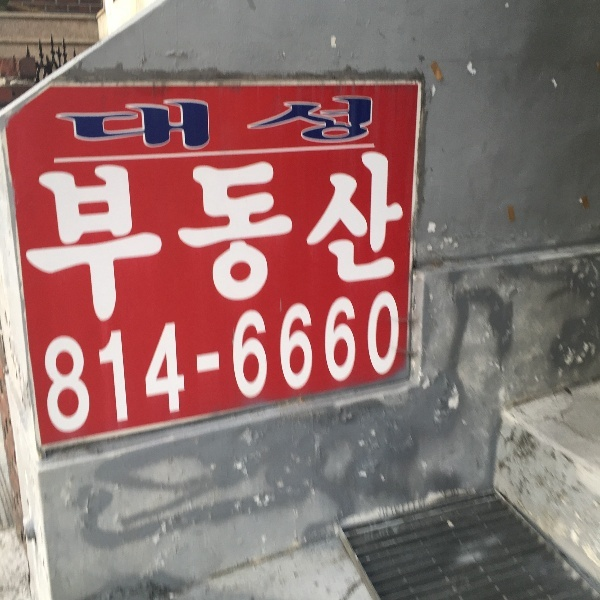text: (17, 148, 32, 334), (33, 148, 48, 334), (49, 148, 64, 334), (65, 148, 80, 334), (81, 148, 96, 334), (97, 148, 112, 334), (113, 148, 128, 334), (129, 148, 144, 334), (145, 148, 160, 334), (161, 148, 176, 334), (177, 148, 192, 334), (193, 148, 208, 334), (209, 148, 224, 334), (225, 148, 240, 334), (241, 148, 256, 334), (257, 148, 272, 334), (273, 148, 288, 334), (289, 148, 304, 334), (305, 148, 320, 334), (321, 148, 336, 334), (337, 148, 352, 334), (353, 148, 368, 334), (369, 148, 384, 334), (385, 148, 400, 334), (49, 286, 64, 441), (65, 286, 80, 441), (81, 286, 96, 441), (97, 286, 112, 441), (113, 286, 128, 441), (129, 286, 144, 441), (145, 286, 160, 441), (161, 286, 176, 441), (177, 286, 192, 441), (193, 286, 208, 441), (209, 286, 224, 441), (225, 286, 240, 441), (241, 286, 256, 441), (257, 286, 272, 441), (273, 286, 288, 441), (289, 286, 304, 441), (305, 286, 320, 441), (321, 286, 336, 441), (337, 286, 352, 441), (353, 286, 368, 441), (369, 286, 384, 441), (385, 286, 400, 441), (37, 286, 48, 441), (65, 92, 80, 150), (81, 92, 96, 150), (97, 92, 112, 150), (113, 92, 128, 150), (129, 92, 144, 150), (145, 92, 160, 150), (161, 92, 176, 150), (177, 92, 192, 150), (193, 92, 208, 150), (209, 92, 224, 150), (225, 92, 240, 150), (241, 92, 256, 150), (257, 92, 272, 150), (273, 92, 288, 150), (289, 92, 304, 150), (305, 92, 320, 150), (321, 92, 336, 150), (337, 92, 352, 150), (353, 92, 368, 150), (51, 92, 64, 150), (401, 148, 405, 334), (14, 148, 16, 334), (369, 92, 375, 150), (401, 286, 402, 441)
